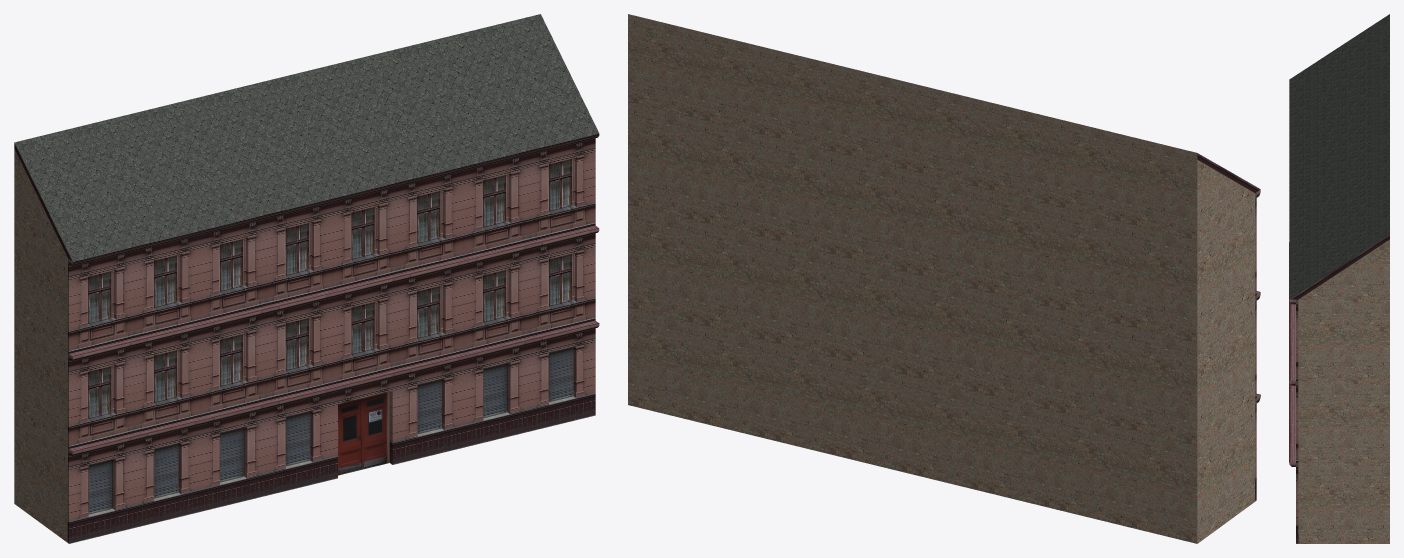
Rendered from PBP1_Building1.fbx.
3 views of the same model, side by side, from view 1: azimuth 30°, elevation 25°; view 2: azimuth 150°, elevation 25°; view 3: azimuth 270°, elevation 25° (orthographic). The views are drawn at different scales.
Parts seen in each view (by area): view 1: PBP1_Building1; view 2: PBP1_Building1; view 3: PBP1_Building1.
Part boxes in pixels (<box>): PBP1_Building1: <box>14,14,599,543</box>; PBP1_Building1: <box>628,14,1260,543</box>; PBP1_Building1: <box>1289,14,1389,543</box>.
Bounding box in the file's own units: 375 × 1941 × 1274.
